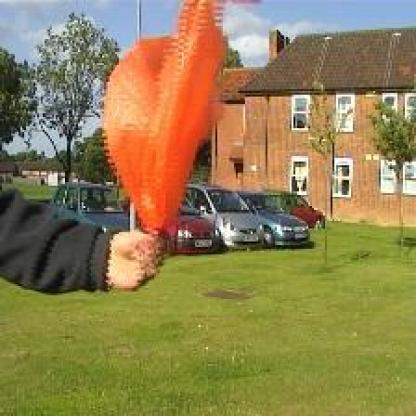other: (90, 0, 235, 245)
